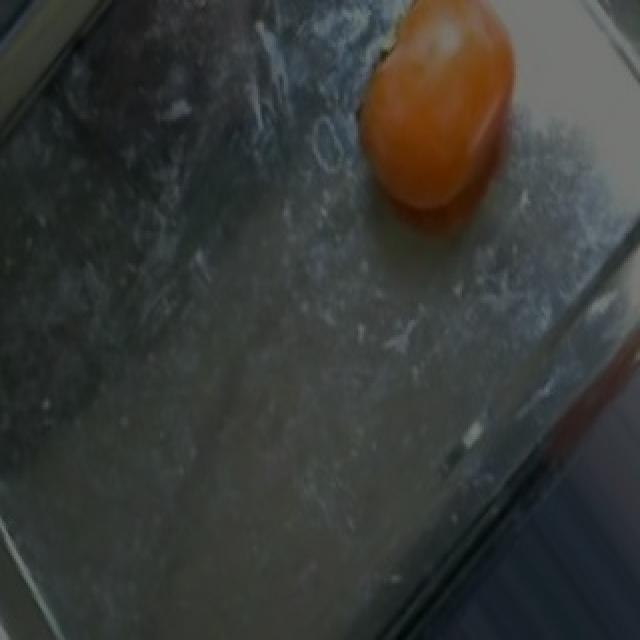Fruit: (332, 2, 540, 236)
